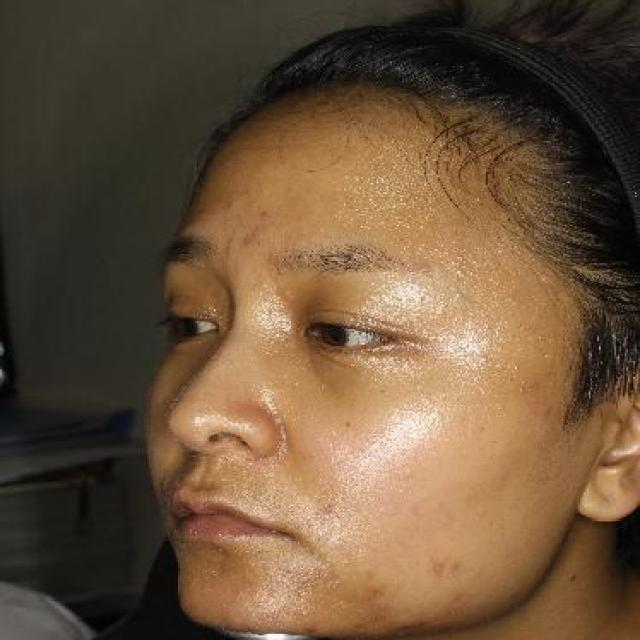pustules: (428, 562, 450, 578), (476, 352, 494, 366)
whiteheads: (431, 303, 452, 319), (510, 362, 525, 372), (503, 294, 517, 304), (452, 266, 465, 276)
